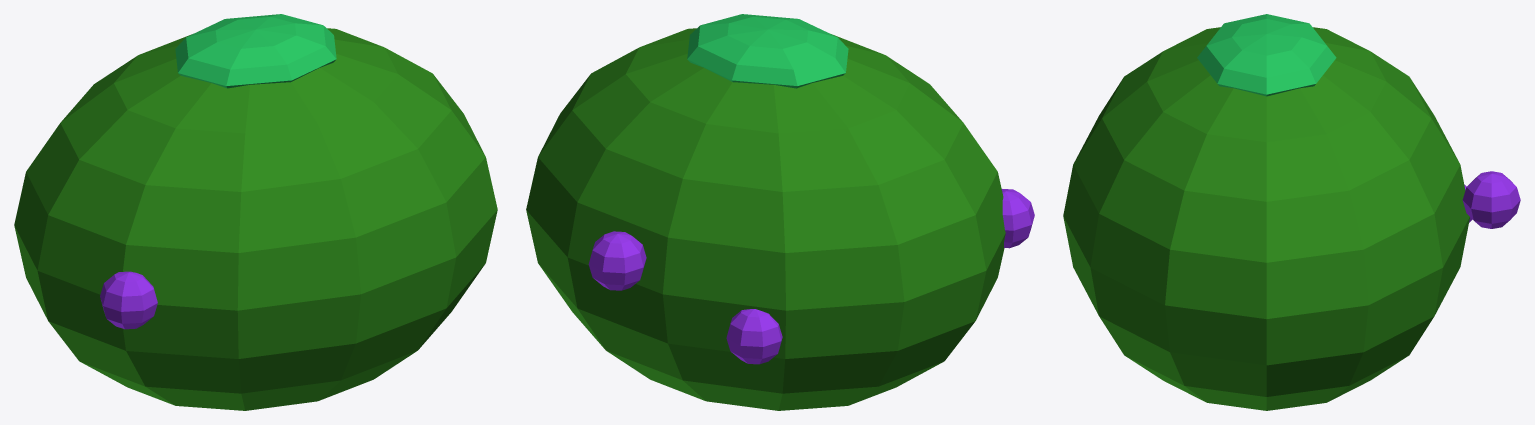
The model's file is prop_verdania_berry.fbx.
3 views of the same model, side by side, from view 1: azimuth 30°, elevation 25°; view 2: azimuth 150°, elevation 25°; view 3: azimuth 270°, elevation 25° (orthographic). The views are drawn at different scales.
Parts seen in each view (by area): view 1: V_Berry_Bush, V_Berry_TopLeaf, V_Berry_6; view 2: V_Berry_Bush, V_Berry_TopLeaf, V_Berry_5, V_Berry_0, V_Berry_6; view 3: V_Berry_Bush, V_Berry_TopLeaf, V_Berry_5.
Boxes of the visible parts, box(x1,y1,x2,y2) form: V_Berry_Bush: box(14, 28, 497, 410); V_Berry_TopLeaf: box(175, 14, 336, 88); V_Berry_6: box(100, 271, 157, 329); V_Berry_Bush: box(526, 28, 1005, 410); V_Berry_TopLeaf: box(687, 14, 848, 88); V_Berry_5: box(588, 231, 646, 290); V_Berry_0: box(726, 309, 782, 364); V_Berry_6: box(1001, 189, 1034, 248); V_Berry_Bush: box(1063, 27, 1469, 410); V_Berry_TopLeaf: box(1197, 14, 1336, 96); V_Berry_5: box(1462, 171, 1520, 228).
Size of the model in its own units: 0.84 by 0.66 by 0.7866.
